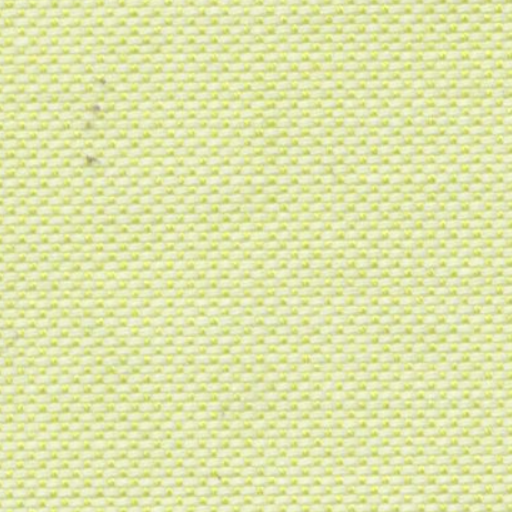WuZi: (66, 70, 124, 187)
